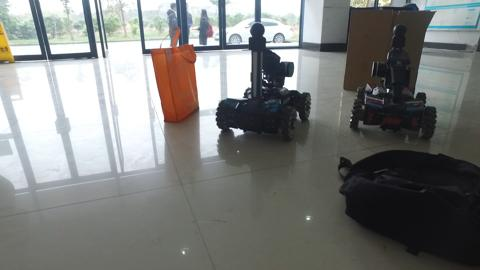bag: (146, 28, 199, 121)
chariot: (210, 24, 315, 136), (350, 23, 437, 137)
